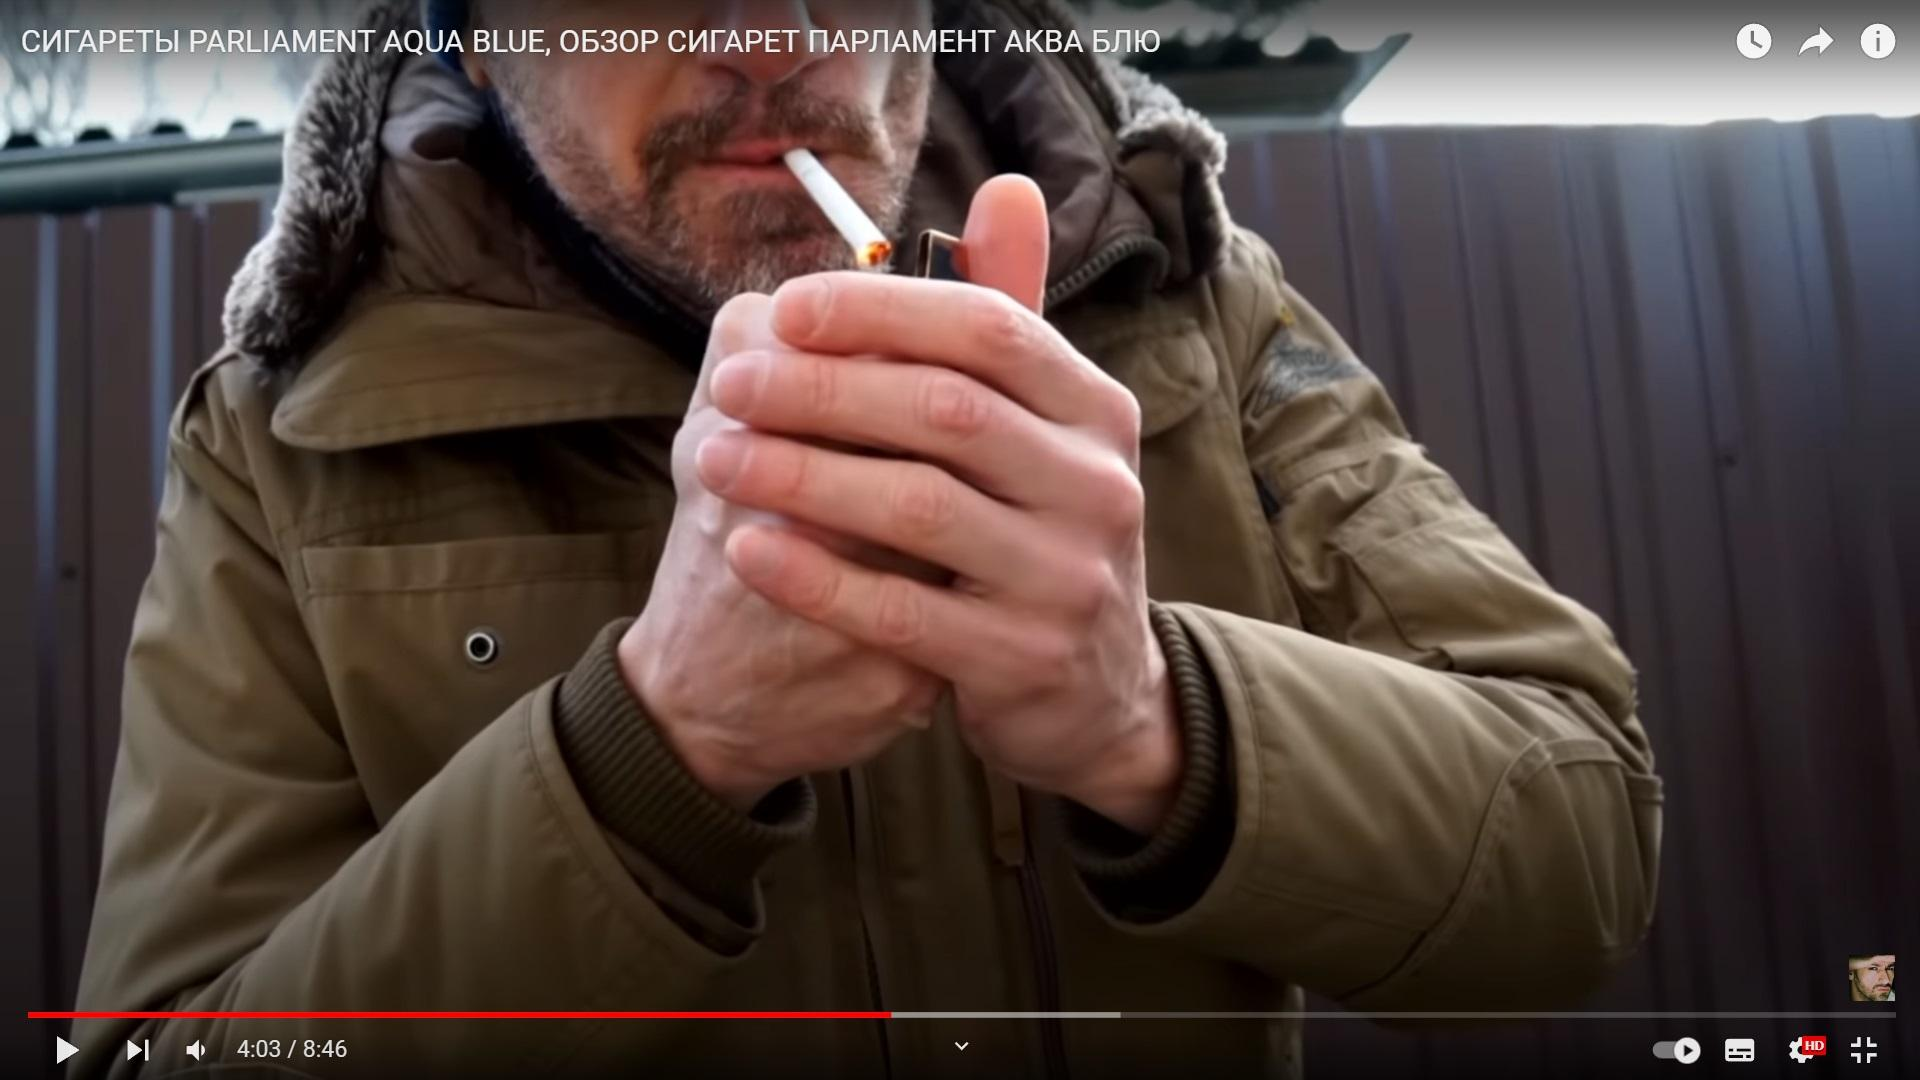cigarette: (783, 146, 894, 266)
